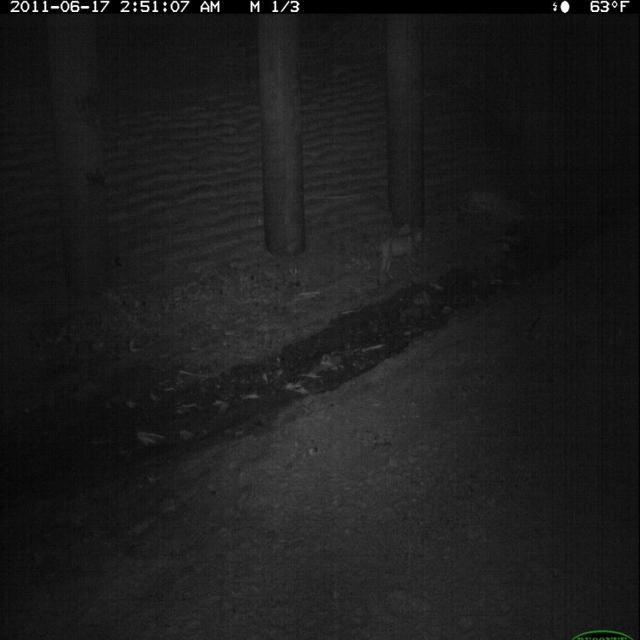bobcat: (372, 222, 429, 292)
